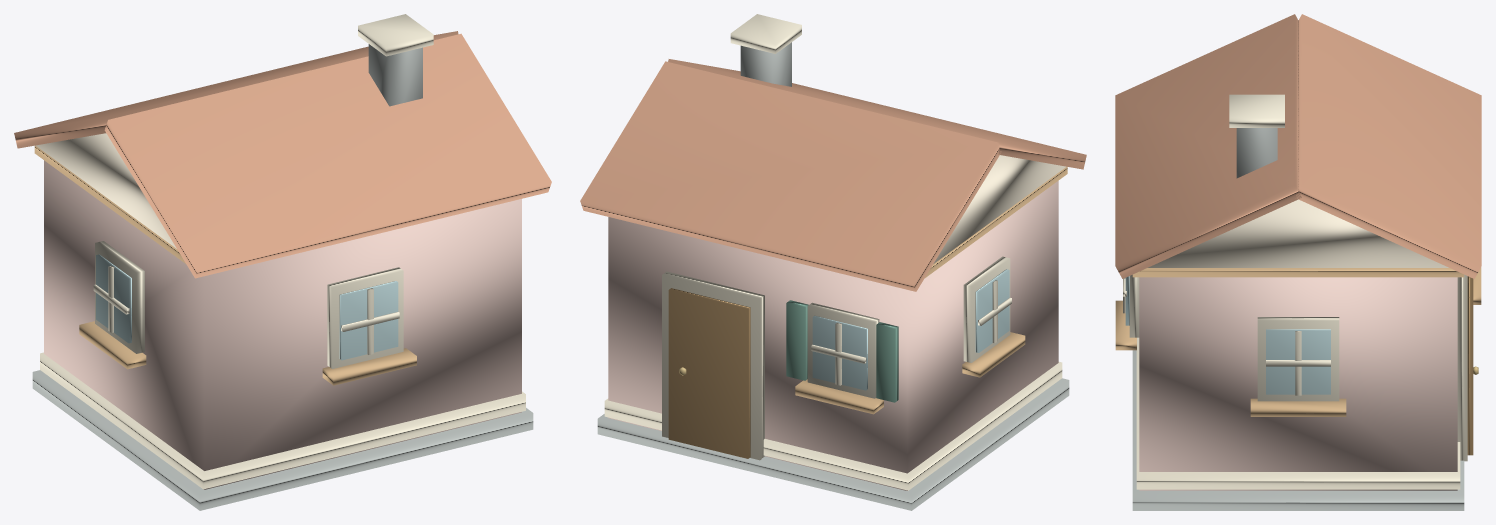
Rendered from cottage_1_low.glb.
The picture shows the model from 3 angles, left to right: view 1: azimuth 30°, elevation 25°; view 2: azimuth 150°, elevation 25°; view 3: azimuth 270°, elevation 25°; orthographic projection. The views are drawn at different scales.
Size of the model in its own units: 3.62 by 3.58 by 3.22.
